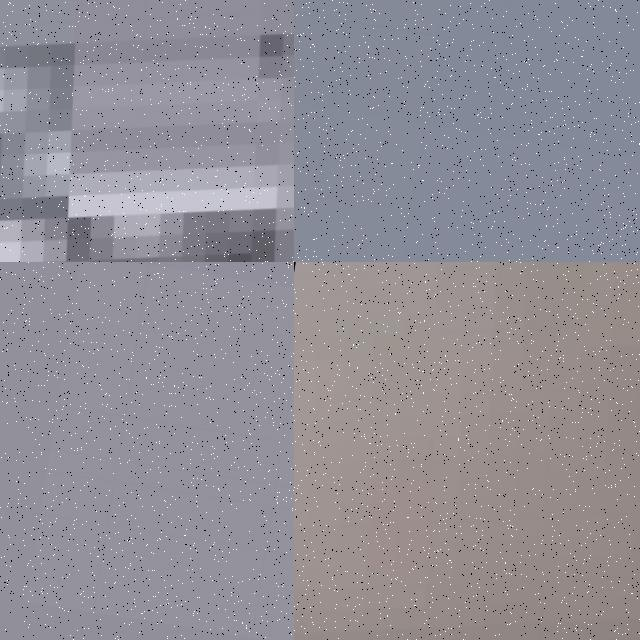0: (0, 0, 294, 262)
drone: (294, 262, 640, 640)
